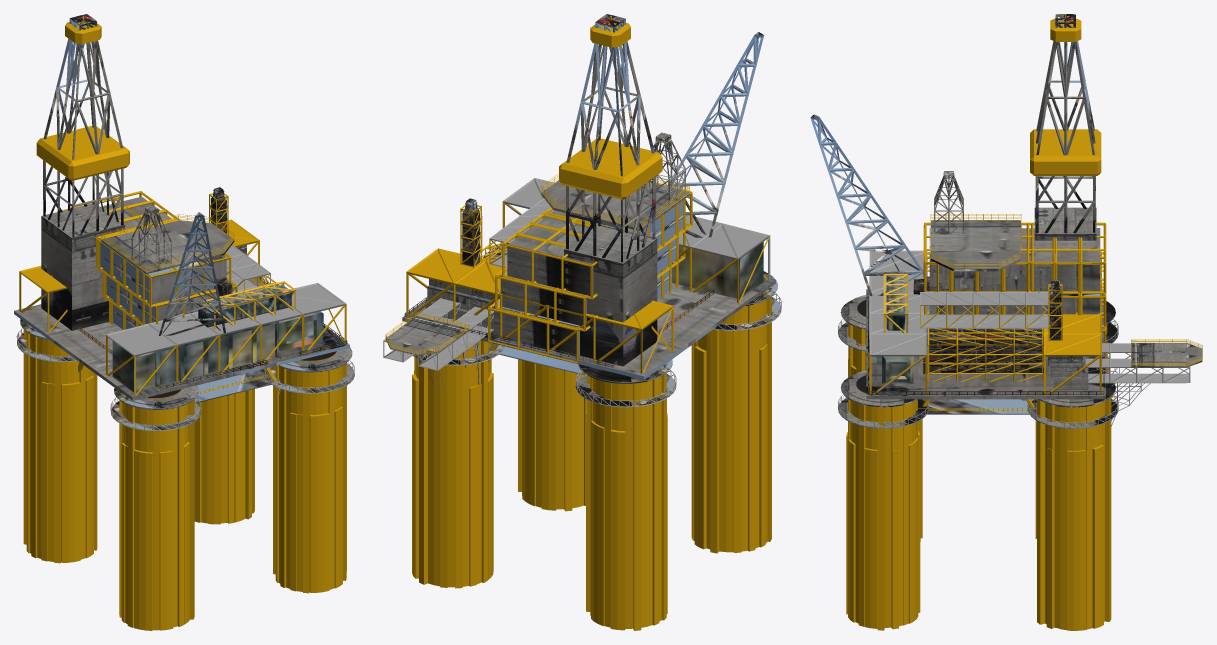
The model's file is oil_rig.glb.
The picture shows the model from 3 angles, left to right: view 1: azimuth 30°, elevation 25°; view 2: azimuth 150°, elevation 25°; view 3: azimuth 270°, elevation 25°; orthographic projection. The views are drawn at different scales.
Parts seen in each view (by area): view 1: oil_rig; view 2: oil_rig; view 3: oil_rig.
Part boxes in pixels (x1=…): oil_rig: x1=14, y1=14, x2=354, y2=630; oil_rig: x1=383, y1=14, x2=781, y2=630; oil_rig: x1=810, y1=14, x2=1202, y2=630.
Size of the model in its own units: 4.14 by 9 by 6.
7 materials, 3 textured.
